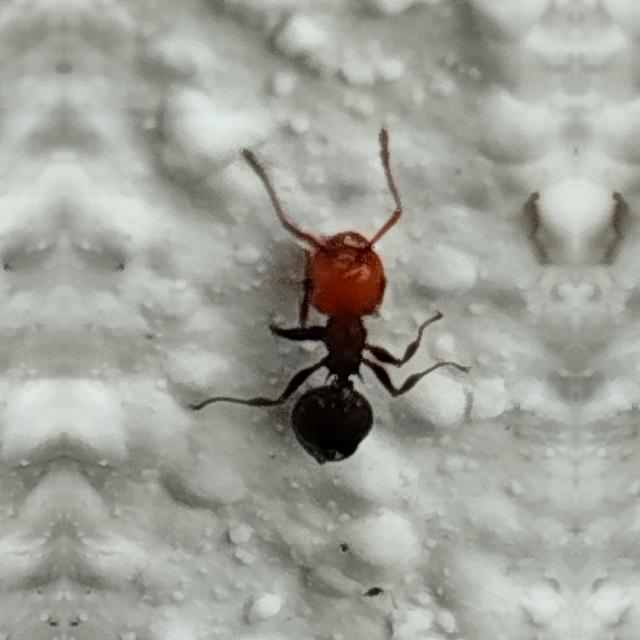Crematogaster: (258, 195, 410, 465)
